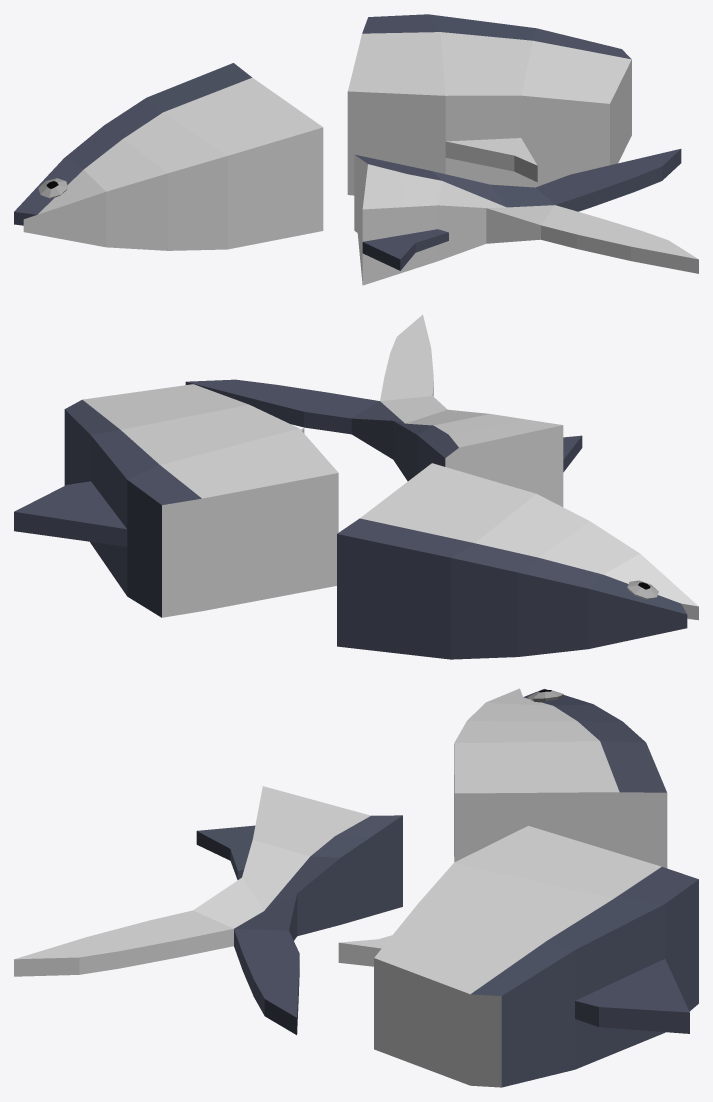
File: Milkfish Sliced.fbx
The picture shows the model from 3 angles, top to bottom: view 1: azimuth 30°, elevation 25°; view 2: azimuth 150°, elevation 25°; view 3: azimuth 270°, elevation 25°; orthographic projection. The views are drawn at different scales.
Visible parts, largest first — view 1: Milkfish Sliced; view 2: Milkfish Sliced; view 3: Milkfish Sliced.
Part boxes in pixels (x1,y1,x2,y2): Milkfish Sliced: (14, 14, 698, 285); Milkfish Sliced: (14, 314, 698, 659); Milkfish Sliced: (14, 688, 698, 1087).
Bounding box in the file's own units: 93.75 × 16.29 × 78.46.
